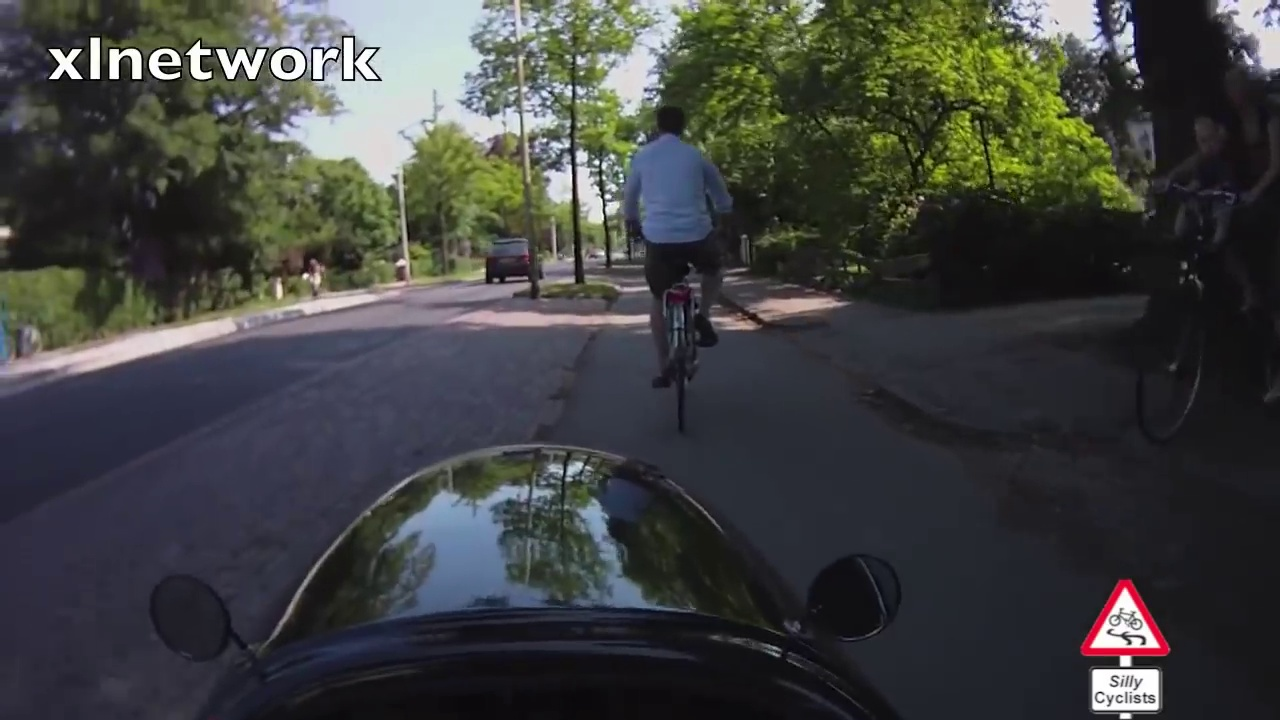cyclist_back: (608, 104, 728, 439)
